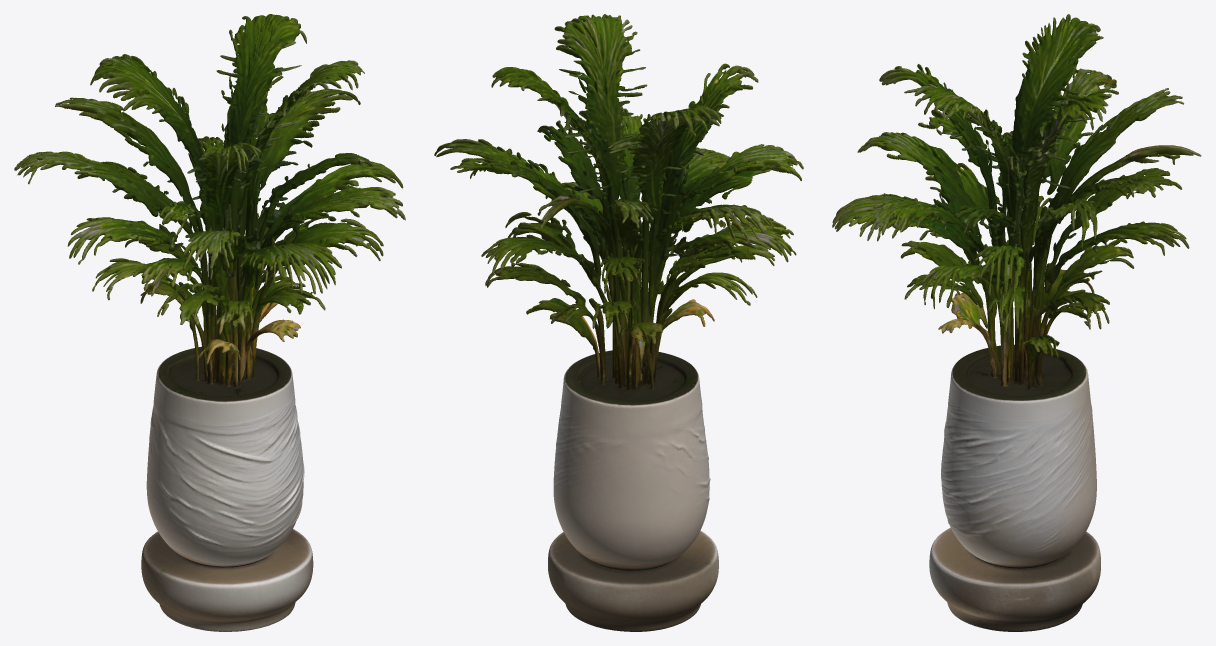
Rendered from 123_Original_02.glb.
The picture shows the model from 3 angles, left to right: view 1: azimuth 30°, elevation 25°; view 2: azimuth 150°, elevation 25°; view 3: azimuth 270°, elevation 25°; orthographic projection.
Parts seen in each view (by area): view 1: tripo_node_7f4c518b-3c0e-45c0-ba4b-6b106e520fcb; view 2: tripo_node_7f4c518b-3c0e-45c0-ba4b-6b106e520fcb; view 3: tripo_node_7f4c518b-3c0e-45c0-ba4b-6b106e520fcb.
Boxes of the visible parts, left/top/right/bottom form: tripo_node_7f4c518b-3c0e-45c0-ba4b-6b106e520fcb: left=14, top=14, right=405, bottom=631; tripo_node_7f4c518b-3c0e-45c0-ba4b-6b106e520fcb: left=434, top=14, right=803, bottom=631; tripo_node_7f4c518b-3c0e-45c0-ba4b-6b106e520fcb: left=832, top=14, right=1201, bottom=631.
Size of the model in its own units: 0.652 by 1 by 0.6131.
1 material, 1 textured.
